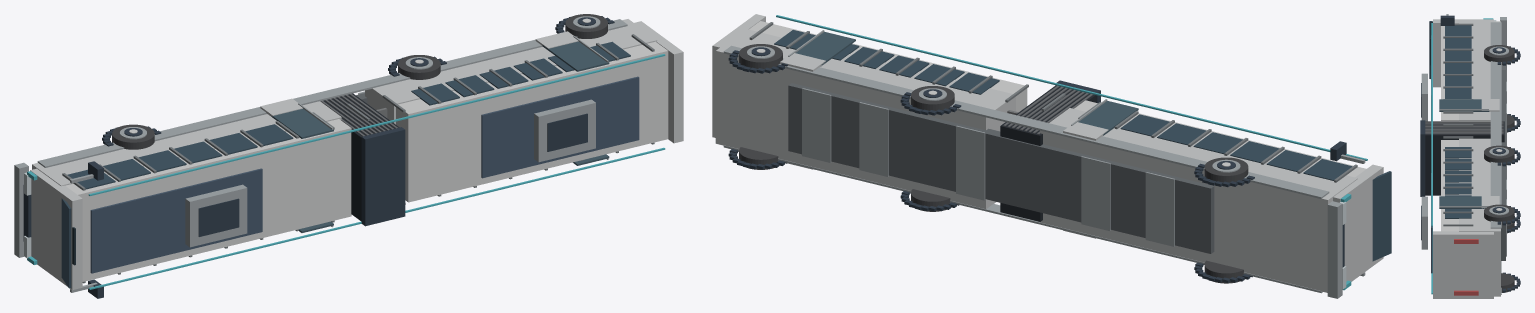
The model's file is articulated_electric_bus (1).glb.
The picture shows the model from 3 angles, left to right: view 1: azimuth 30°, elevation 25°; view 2: azimuth 150°, elevation 25°; view 3: azimuth 270°, elevation 25°; orthographic projection. The views are drawn at different scales.
Visible parts, largest first — view 1: part_003_Rear_section_upper_shell, part_002_Front_section_upper_shell, part_089_Front_roof_dark_solar_glass, part_090_Rear_roof_dark_solar_glass, part_004_Front_rounded_fascia, part_105_Articulation_roof_cover, part_001_Rear_section_lower_shell, part_074_Lower_side_skirt, part_000_Front_section_lower_shell, part_091_Roof_HVAC_unit, part_093_Roof_HVAC_unit, part_005_Rear_end_cap (+23 smaller); view 2: part_318_Battery_pack_underfloor, part_000_Front_section_lower_shell, part_001_Rear_section_lower_shell, part_074_Lower_side_skirt, part_004_Front_rounded_fascia, part_320_Battery_compartment_panel, part_321_Battery_compartment_panel, part_319_Battery_compartment_panel, part_322_Battery_compartment_panel, part_323_Battery_compartment_panel, part_095_Articulation_central_dark_bellows, part_075_Electric_cyan_side_accent (+26 smaller); view 3: part_005_Rear_end_cap, part_001_Rear_section_lower_shell, part_000_Front_section_lower_shell, part_074_Lower_side_skirt, part_095_Articulation_central_dark_bellows, part_318_Battery_pack_underfloor, part_004_Front_rounded_fascia, part_003_Rear_section_upper_shell, part_076_Passenger_door_dark_glass, part_079_Passenger_door_dark_glass, part_105_Articulation_roof_cover, part_002_Front_section_upper_shell (+49 smaller).
Boxes of the visible parts, x1=… form: part_003_Rear_section_upper_shell: x1=396, y1=41, x2=668, y2=202; part_002_Front_section_upper_shell: x1=65, y1=119, x2=351, y2=281; part_089_Front_roof_dark_solar_glass: x1=90, y1=168, x2=262, y2=273; part_090_Rear_roof_dark_solar_glass: x1=481, y1=76, x2=639, y2=178; part_004_Front_rounded_fascia: x1=30, y1=168, x2=82, y2=289; part_105_Articulation_roof_cover: x1=361, y1=127, x2=405, y2=226; part_001_Rear_section_lower_shell: x1=365, y1=19, x2=657, y2=124; part_074_Lower_side_skirt: x1=37, y1=19, x2=627, y2=167; part_000_Front_section_lower_shell: x1=32, y1=101, x2=341, y2=186; part_091_Roof_HVAC_unit: x1=185, y1=184, x2=247, y2=247; part_093_Roof_HVAC_unit: x1=534, y1=99, x2=595, y2=162; part_005_Rear_end_cap: x1=634, y1=21, x2=683, y2=143; part_318_Battery_pack_underfloor: x1=788, y1=83, x2=1214, y2=253; part_000_Front_section_lower_shell: x1=1040, y1=108, x2=1357, y2=292; part_001_Rear_section_lower_shell: x1=715, y1=29, x2=1015, y2=208; part_074_Lower_side_skirt: x1=723, y1=45, x2=1329, y2=199; part_004_Front_rounded_fascia: x1=1333, y1=164, x2=1383, y2=281; part_320_Battery_compartment_panel: x1=1081, y1=156, x2=1110, y2=230; part_321_Battery_compartment_panel: x1=956, y1=125, x2=985, y2=200; part_319_Battery_compartment_panel: x1=1145, y1=172, x2=1174, y2=246; part_322_Battery_compartment_panel: x1=859, y1=102, x2=888, y2=176; part_323_Battery_compartment_panel: x1=802, y1=88, x2=831, y2=162; part_095_Articulation_central_dark_bellows: x1=1000, y1=85, x2=1096, y2=221; part_075_Electric_cyan_side_accent: x1=776, y1=15, x2=1367, y2=160; part_005_Rear_end_cap: x1=1433, y1=231, x2=1493, y2=298; part_001_Rear_section_lower_shell: x1=1459, y1=138, x2=1500, y2=296; part_000_Front_section_lower_shell: x1=1459, y1=21, x2=1500, y2=121; part_074_Lower_side_skirt: x1=1490, y1=22, x2=1501, y2=228; part_095_Articulation_central_dark_bellows: x1=1425, y1=121, x2=1504, y2=195; part_318_Battery_pack_underfloor: x1=1501, y1=70, x2=1505, y2=260; part_004_Front_rounded_fascia: x1=1433, y1=19, x2=1493, y2=87; part_003_Rear_section_upper_shell: x1=1441, y1=140, x2=1458, y2=231; part_076_Passenger_door_dark_glass: x1=1439, y1=99, x2=1489, y2=111; part_079_Passenger_door_dark_glass: x1=1439, y1=196, x2=1485, y2=208; part_105_Articulation_roof_cover: x1=1420, y1=120, x2=1425, y2=196; part_002_Front_section_upper_shell: x1=1441, y1=23, x2=1458, y2=121.
Size of the model in its own units: 17.8 by 3.54 by 3.46.
